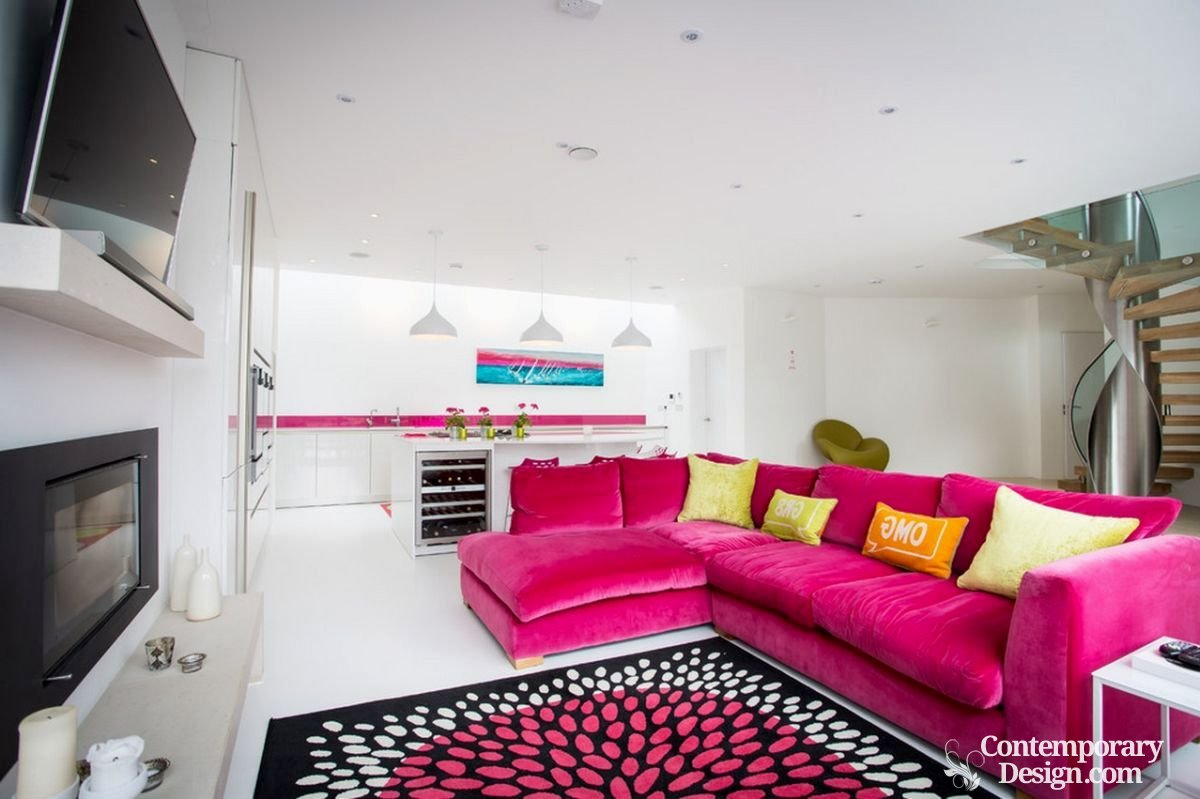hijau: (815, 417, 891, 468)
kuning: (983, 493, 1097, 599), (687, 457, 750, 525), (763, 496, 830, 540)
orange: (870, 500, 953, 575)
pink: (466, 464, 1090, 698)
putih: (1099, 635, 1200, 710), (83, 742, 147, 798), (177, 547, 220, 622)
